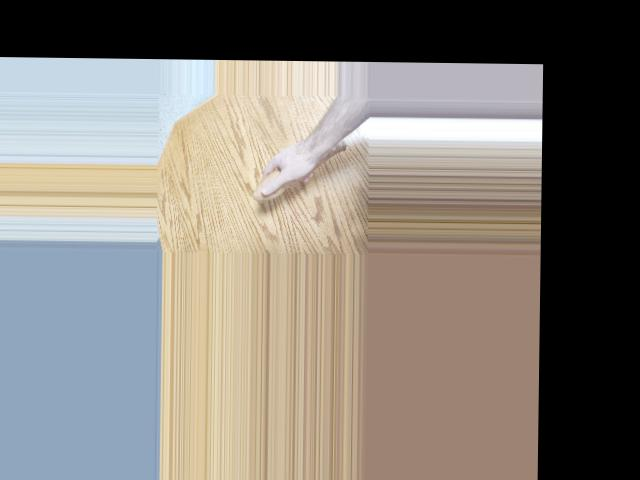sweet_potato: (252, 137, 349, 202)
